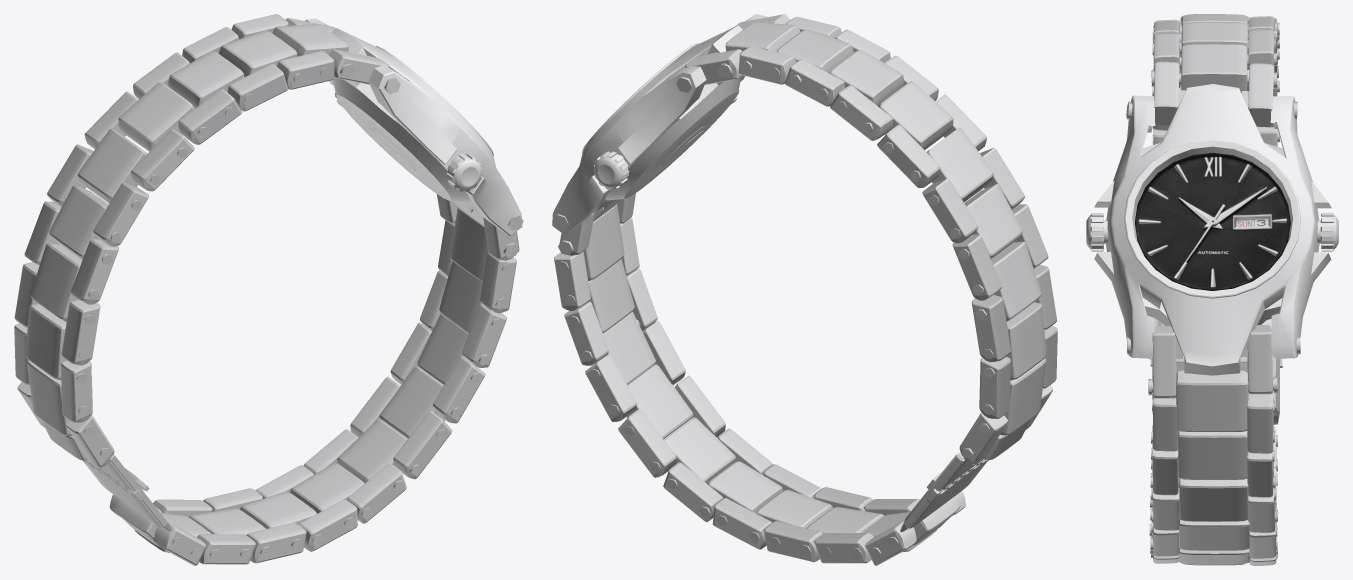
Rendered from steel-bracelet-watch.glb.
The picture shows the model from 3 angles, left to right: view 1: azimuth 30°, elevation 25°; view 2: azimuth 150°, elevation 25°; view 3: azimuth 270°, elevation 25°; orthographic projection. The views are drawn at different scales.
Visible parts, largest first — view 1: Object_4, Object_5, Object_6, Object_3, Object_7; view 2: Object_4, Object_5, Object_6, Object_3, Object_7; view 3: Object_6, Object_4, Object_2, Object_5, Object_3, Object_7.
Part boxes in pixels (left/top/right/bottom): Object_4: left=14, top=14, right=519, bottom=565; Object_5: left=14, top=30, right=523, bottom=565; Object_6: left=305, top=18, right=522, bottom=235; Object_3: left=14, top=14, right=519, bottom=564; Object_7: left=335, top=93, right=482, bottom=191; Object_4: left=554, top=22, right=1046, bottom=563; Object_5: left=552, top=14, right=1057, bottom=565; Object_6: left=552, top=14, right=767, bottom=234; Object_3: left=554, top=14, right=1057, bottom=565; Object_7: left=593, top=90, right=739, bottom=189; Object_6: left=1094, top=84, right=1331, bottom=375; Object_4: left=1150, top=14, right=1282, bottom=565; Object_2: left=1135, top=152, right=1290, bottom=290; Object_5: left=1126, top=21, right=1296, bottom=565; Object_3: left=1127, top=14, right=1300, bottom=565; Object_7: left=1086, top=212, right=1338, bottom=251.
Size of the model in its own units: 9.43 by 9.79 by 4.36.
Materials: 3 (1 with a texture image).
